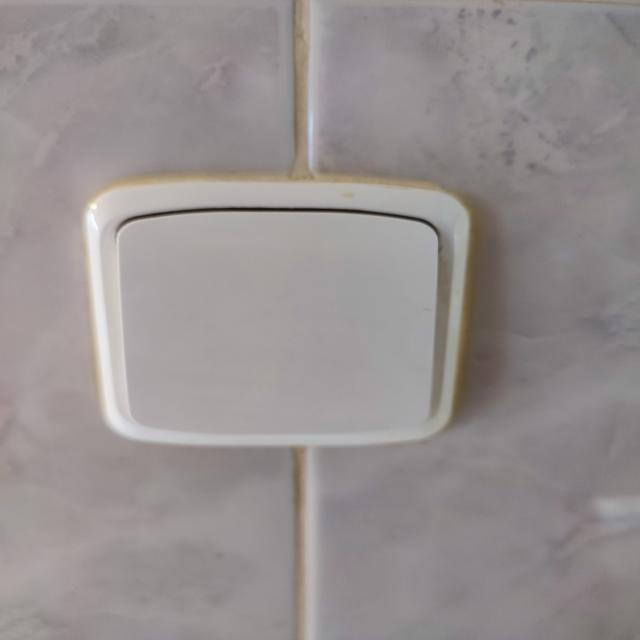house switch: (84, 179, 471, 446)
